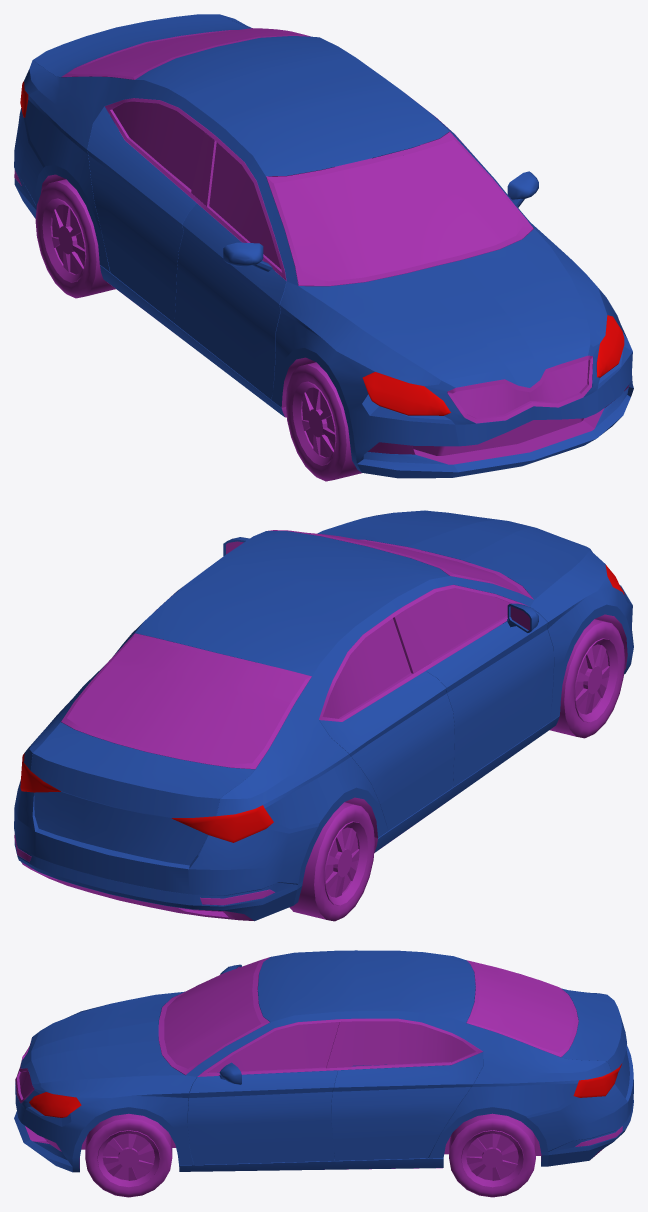
The model's file is skeda.fbx.
The picture shows the model from 3 angles, top to bottom: view 1: azimuth 30°, elevation 25°; view 2: azimuth 150°, elevation 25°; view 3: azimuth 270°, elevation 25°; orthographic projection. The views are drawn at different scales.
Parts seen in each view (by area): view 1: polySurface4z, pCylinder8z, pCylinder9z; view 2: polySurface4z, pCylinder8z, pCylinder9z; view 3: polySurface4z, pCylinder7z, pCylinder3z.
Part boxes in pixels (x1,y1,x2,y2): polySurface4z: (14, 14, 633, 478); pCylinder8z: (35, 179, 115, 298); pCylinder9z: (285, 362, 361, 481); polySurface4z: (14, 510, 633, 921); pCylinder8z: (289, 802, 374, 921); pCylinder9z: (549, 619, 624, 738); polySurface4z: (14, 950, 633, 1172); pCylinder7z: (449, 1113, 535, 1197); pCylinder3z: (85, 1113, 172, 1197).
Bounding box in the file's own units: 17.95 × 13 × 42.89.
